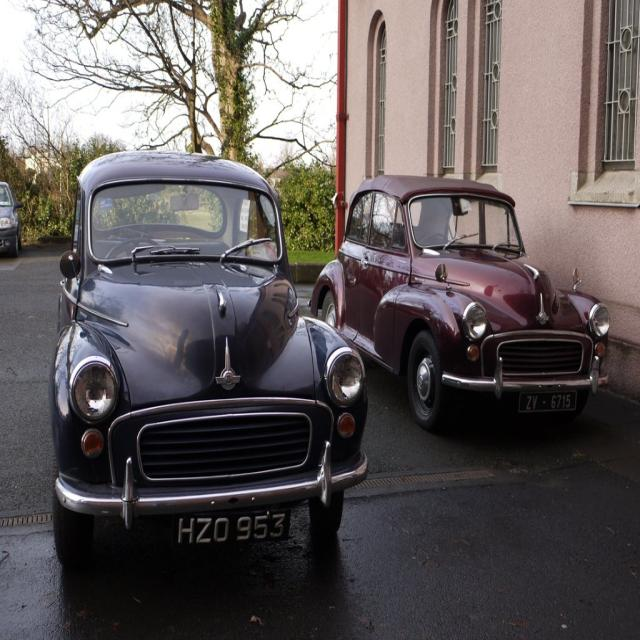car: (45, 145, 375, 616)
